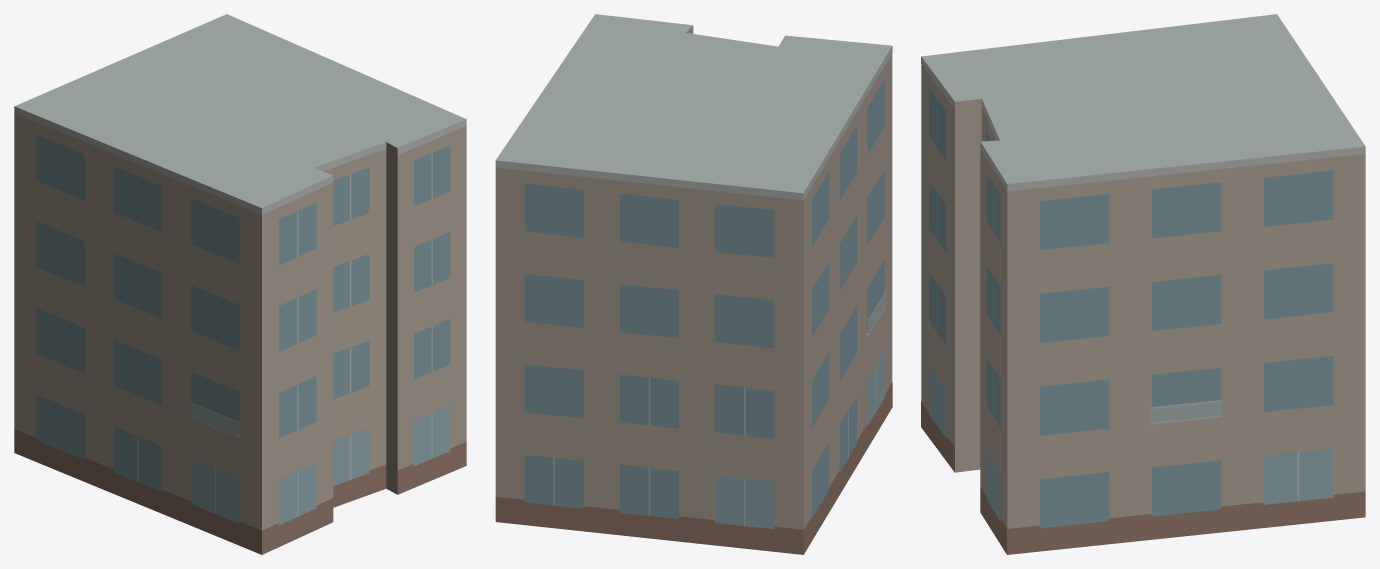
File: survey-upis-32654536.glb
The picture shows the model from 3 angles, left to right: view 1: azimuth 30°, elevation 25°; view 2: azimuth 150°, elevation 25°; view 3: azimuth 270°, elevation 25°; orthographic projection. The views are drawn at different scales.
Visible parts, largest first — view 1: survey-upis-32654536.tmp; view 2: survey-upis-32654536.tmp; view 3: survey-upis-32654536.tmp.
Boxes of the visible parts, left/top/right/bottom form: survey-upis-32654536.tmp: left=14, top=14, right=466, bottom=554; survey-upis-32654536.tmp: left=495, top=14, right=892, bottom=554; survey-upis-32654536.tmp: left=921, top=14, right=1365, bottom=554.
Bounding box in the file's own units: 12.11 × 12.3 × 13.38.
